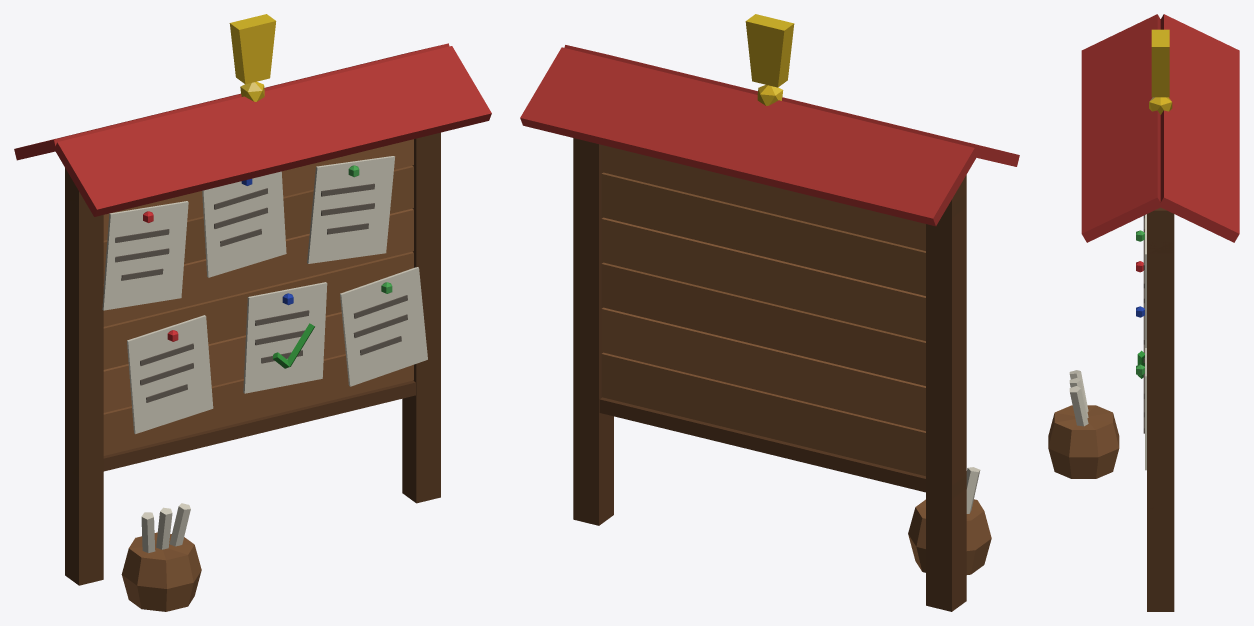
The model's file is Prop_QuestsMachine.fbx.
3 renders of one model, left to right at view 1: azimuth 30°, elevation 25°; view 2: azimuth 150°, elevation 25°; view 3: azimuth 270°, elevation 25°, orthographic. The views are drawn at different scales.
Parts seen in each view (by area): view 1: Body; view 2: Body; view 3: Body.
Part boxes in pixels (x1=…): Body: x1=14, y1=14, x2=491, y2=611; Body: x1=520, y1=14, x2=1019, y2=611; Body: x1=1048, y1=14, x2=1239, y2=611.
Size of the model in its own units: 9.6 by 11.95 by 4.23.
